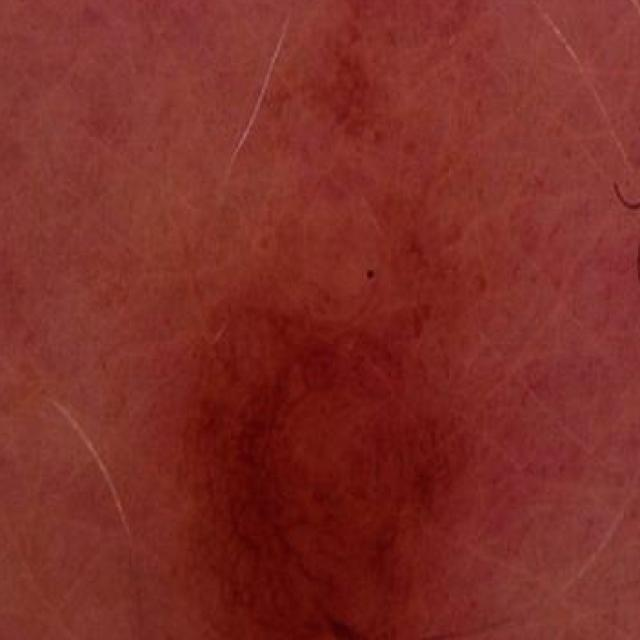NV: (174, 5, 483, 640)
